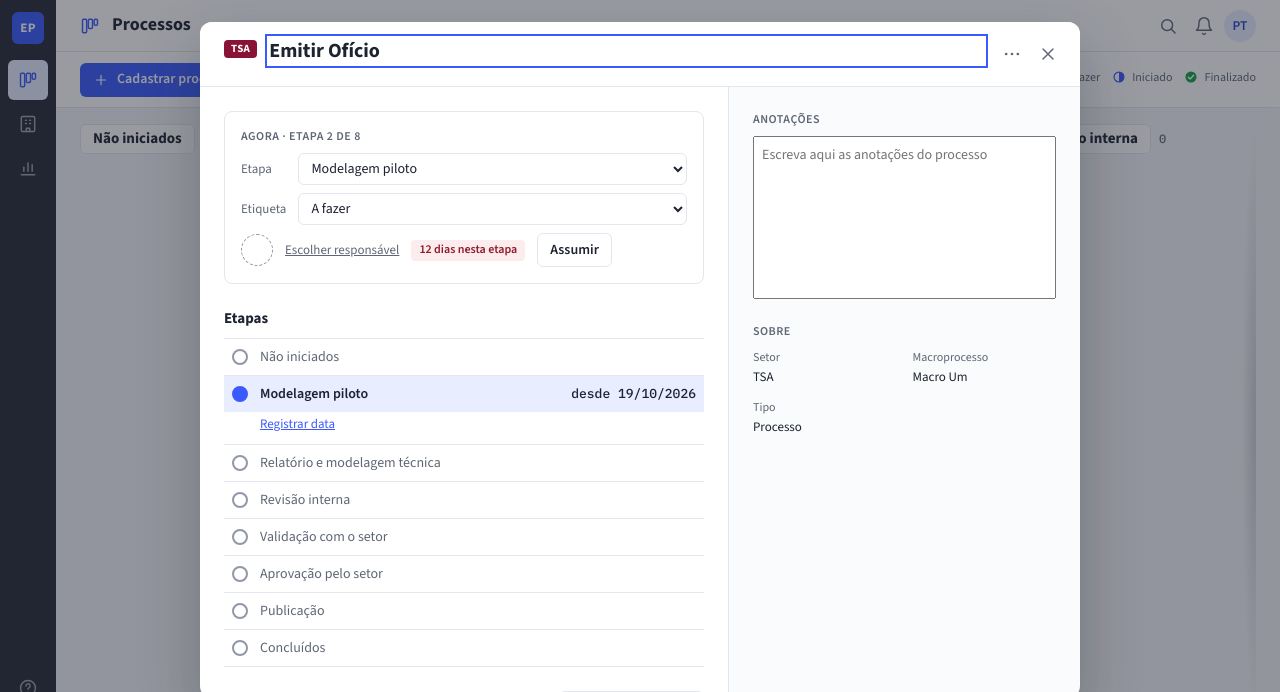
[Cancelar] deixa o processo onde estava
Select "Relatório e modelagem técnica" in the dropdown labelled "Etapa" at (493, 169), box [298, 153, 687, 185]
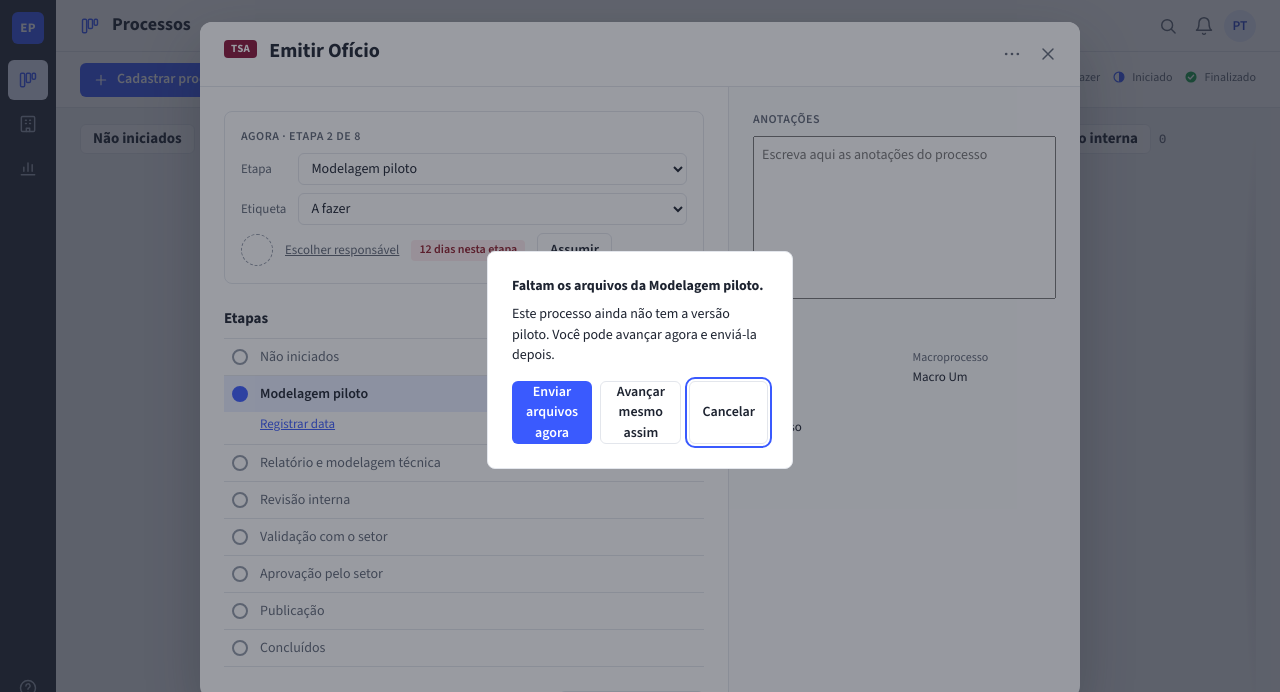
Click the button "Cancelar".
click(729, 413)  # box [690, 381, 768, 444]
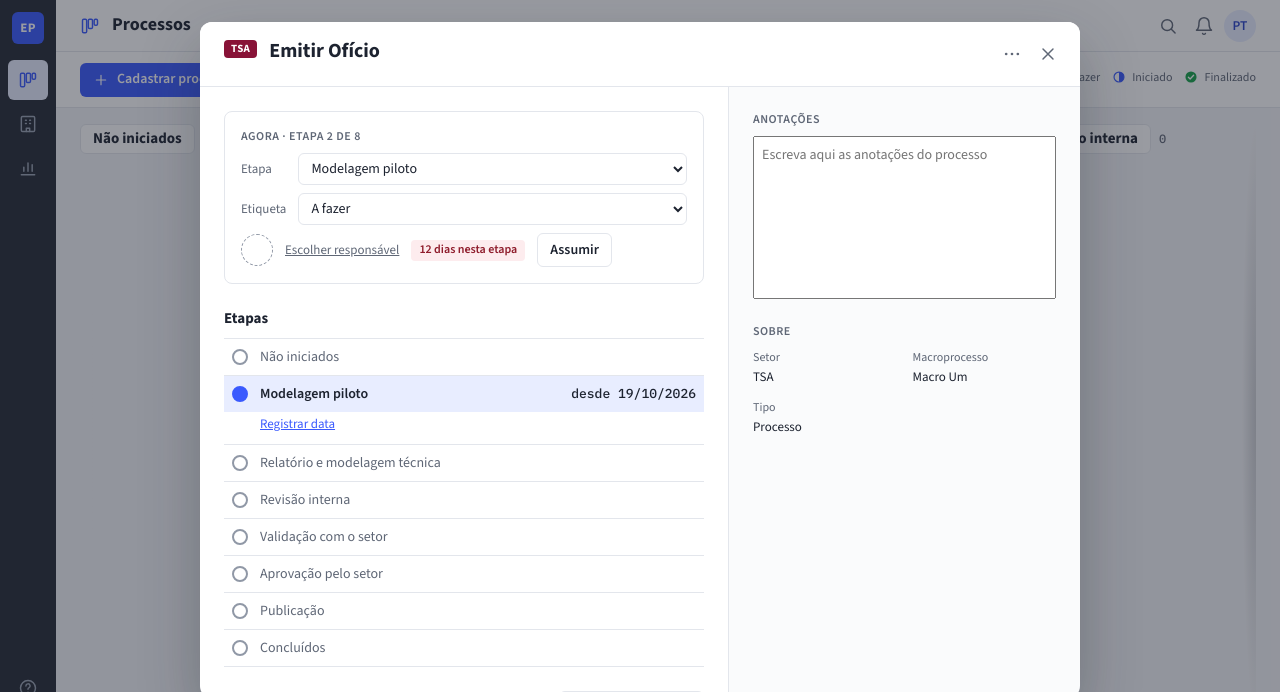
Check: the heading "Faltam os arquivos da Modelagem piloto." is gone
